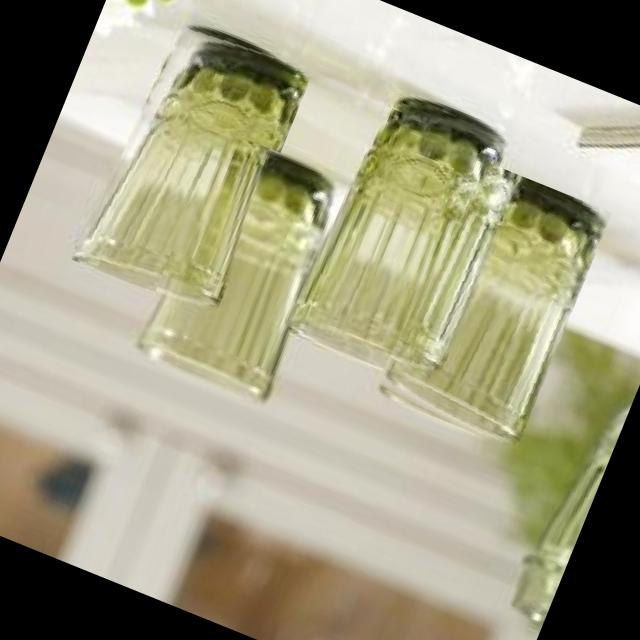Glass: (279, 78, 527, 388), (69, 7, 314, 316), (369, 153, 611, 454), (128, 127, 354, 408)
